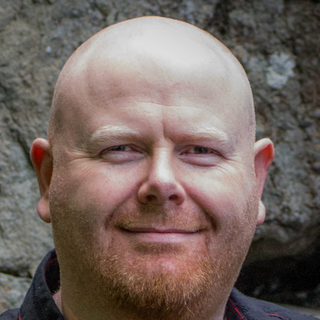eye: (95, 139, 146, 163), (177, 140, 224, 164)
